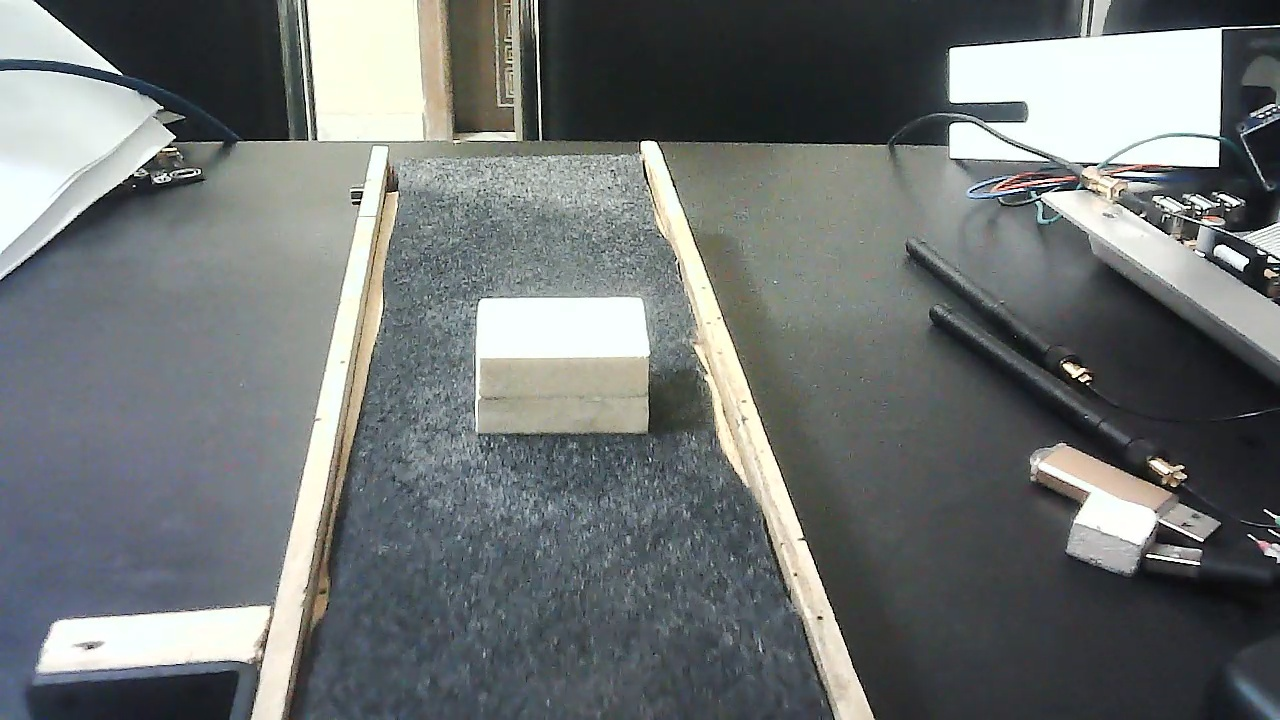BIG: (476, 279, 650, 453)
